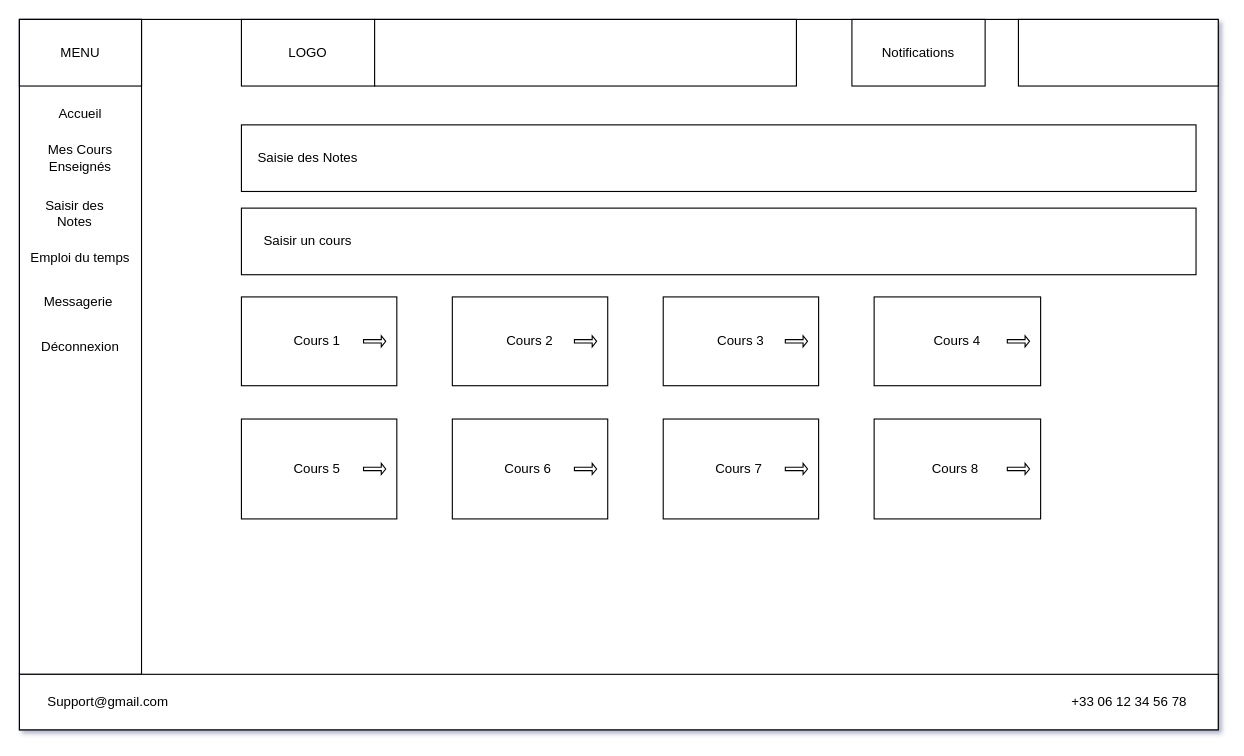
Image size: 1244x756. Some labels were removed from this diagram. Each missing label, with the centre of its shape:
Nom de l'utilisateur: [1117,52]
Nom du site: [585,52]
